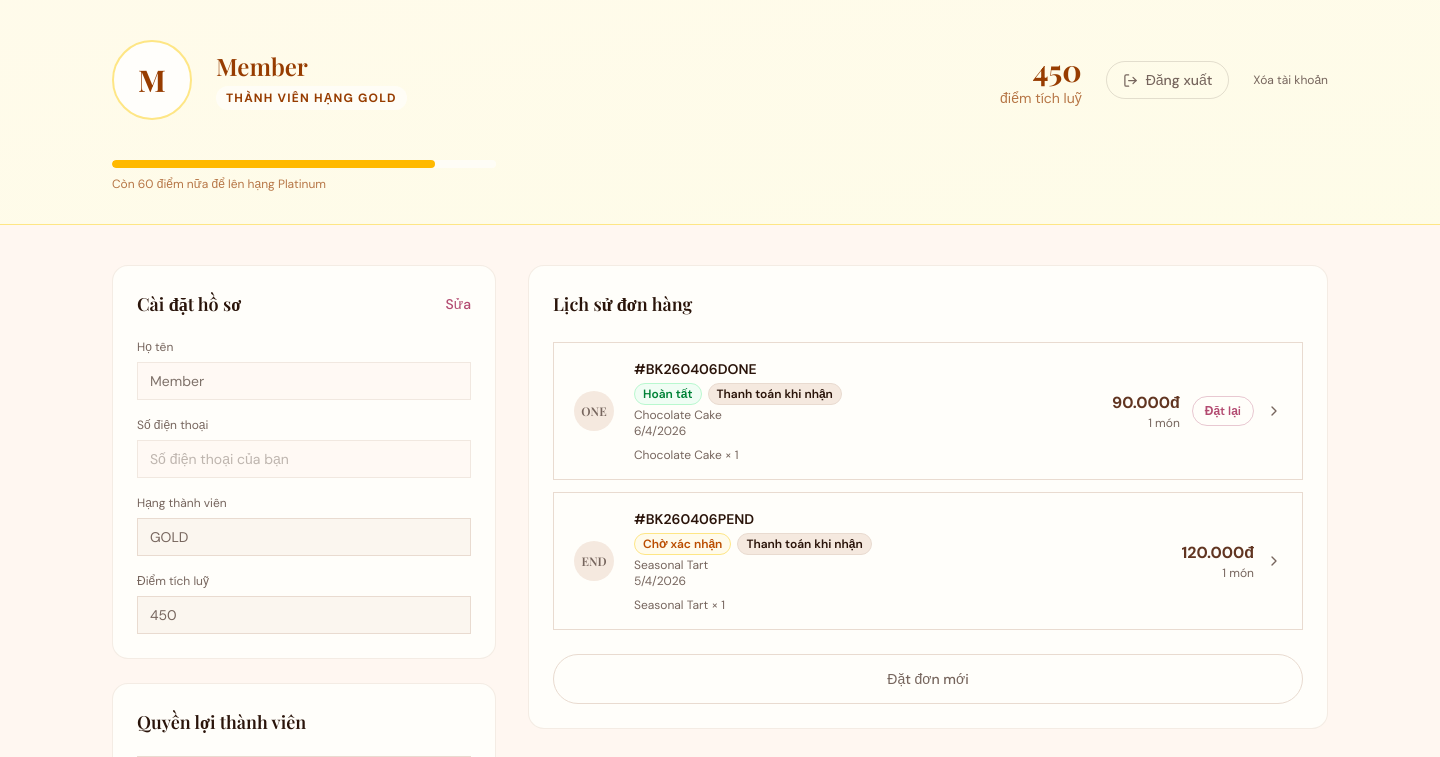
it: Order history quick reorder › prefills cart and surfaces unavailable guidance after reorder
Click the button with aria-label "Đặt lại đơn BK260406DONE": point(1223, 411) [1192, 396, 1254, 426]
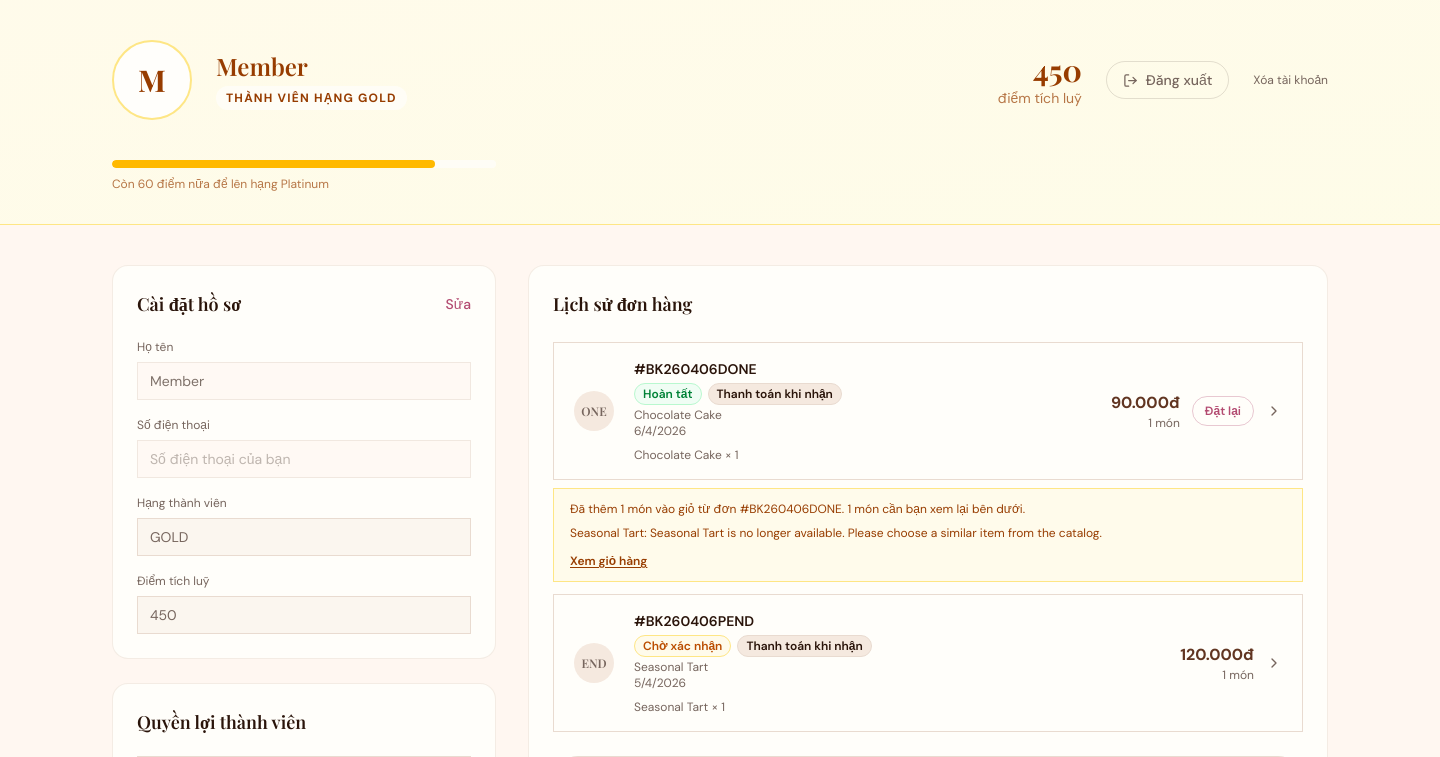
expect the text "Đã thêm 1 món vào giỏ từ đơn #BK260406DONE." is shown: met, box [570, 501, 1025, 517]
expect the list item "Seasonal Tart: Seasonal Tart is no longer available." is shown: met, box [570, 525, 1102, 541]
